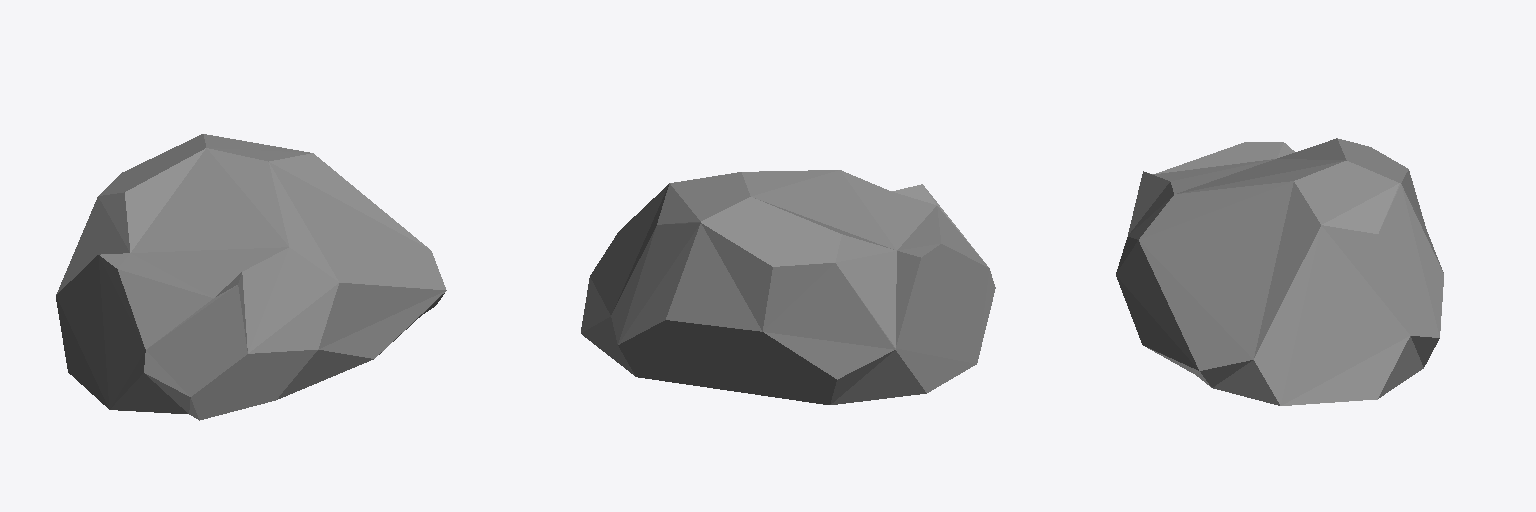
Rendered from rock1.obj.
The picture shows the model from 3 angles: view 1: azimuth 30°, elevation 25°; view 2: azimuth 150°, elevation 25°; view 3: azimuth 270°, elevation 25°; orthographic projection.
Visible parts, largest first — view 1: Rock_10_Siatka; view 2: Rock_10_Siatka; view 3: Rock_10_Siatka.
Boxes of the visible parts, <box> form: Rock_10_Siatka: <box>56,134,446,420</box>; Rock_10_Siatka: <box>581,170,995,404</box>; Rock_10_Siatka: <box>1116,138,1443,405</box>.
Bounding box in the file's own units: 3.31 × 1.56 × 2.65.